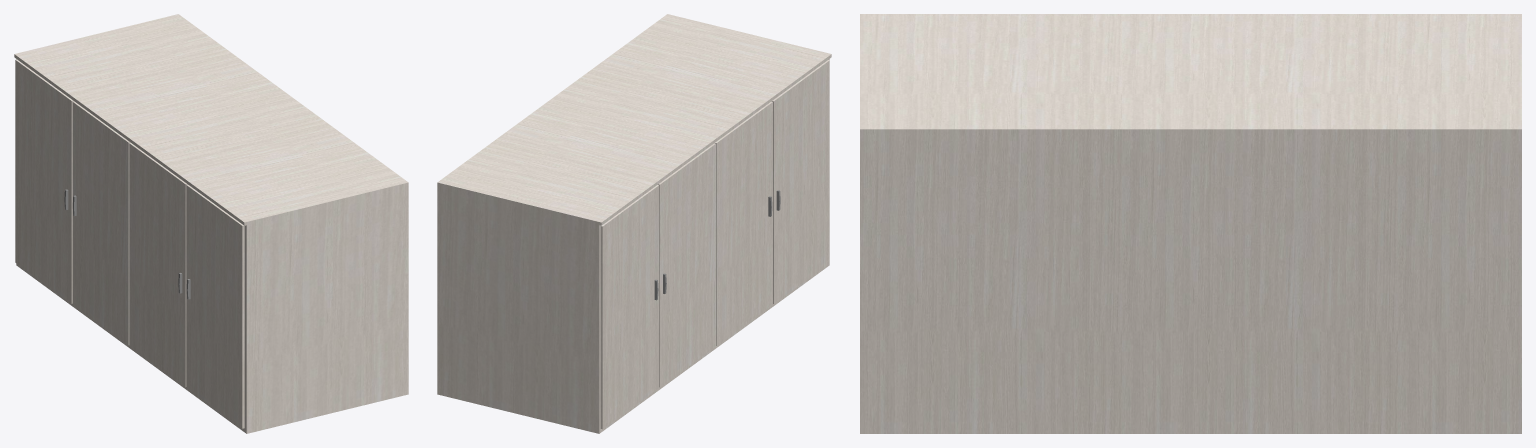
File: CK-guizi0001-CJBZ.FBX
The picture shows the model from 3 angles, left to right: view 1: azimuth 30°, elevation 25°; view 2: azimuth 150°, elevation 25°; view 3: azimuth 270°, elevation 25°; orthographic projection. The views are drawn at different scales.
Visible parts, largest first — view 1: CK-guizi0001-CJBZ; view 2: CK-guizi0001-CJBZ; view 3: CK-guizi0001-CJBZ.
Boxes of the visible parts, <box> form: CK-guizi0001-CJBZ: <box>14,14,408,433</box>; CK-guizi0001-CJBZ: <box>437,14,831,433</box>; CK-guizi0001-CJBZ: <box>860,14,1521,433</box>.
Size of the model in its own units: 0.7127 by 0.8637 by 1.7.
2 materials, 1 textured.
